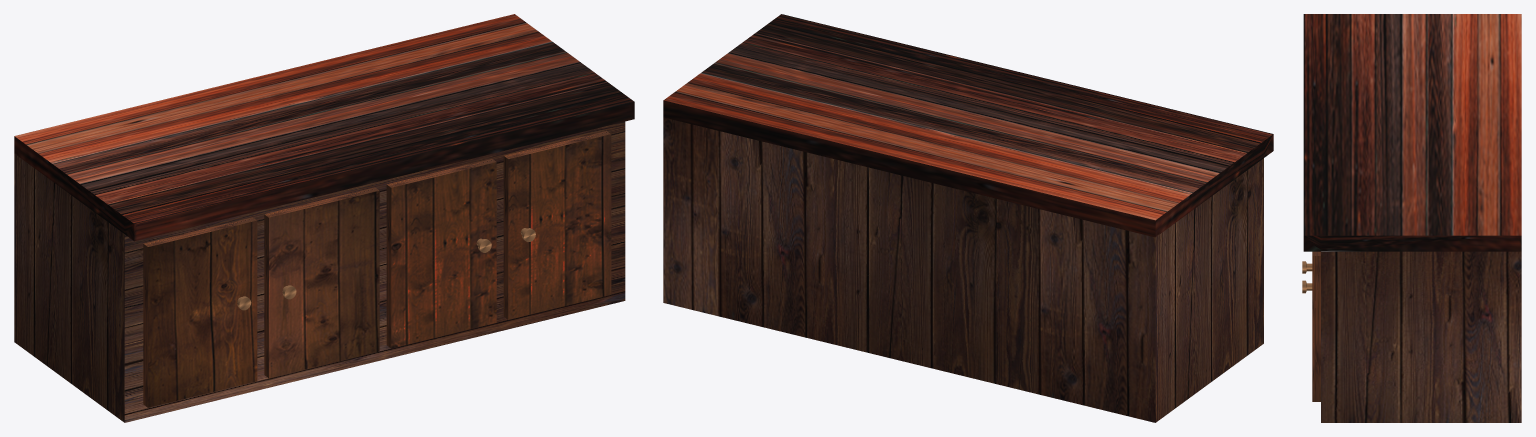
The model's file is Counter.fbx.
The picture shows the model from 3 angles, left to right: view 1: azimuth 30°, elevation 25°; view 2: azimuth 150°, elevation 25°; view 3: azimuth 270°, elevation 25°; orthographic projection. The views are drawn at different scales.
Visible parts, largest first — view 1: Counter; view 2: Counter; view 3: Counter.
Part boxes in pixels (x1,y1,x2,y2): Counter: [14, 14, 634, 422]; Counter: [663, 14, 1273, 422]; Counter: [1302, 14, 1521, 422].
Bounding box in the file's own units: 7.12 × 2.8 × 2.97.
